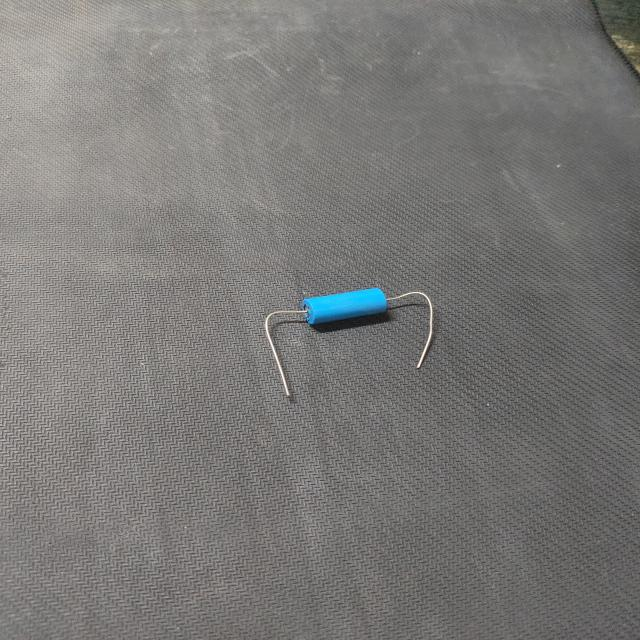capacitor: (250, 277, 442, 406)
